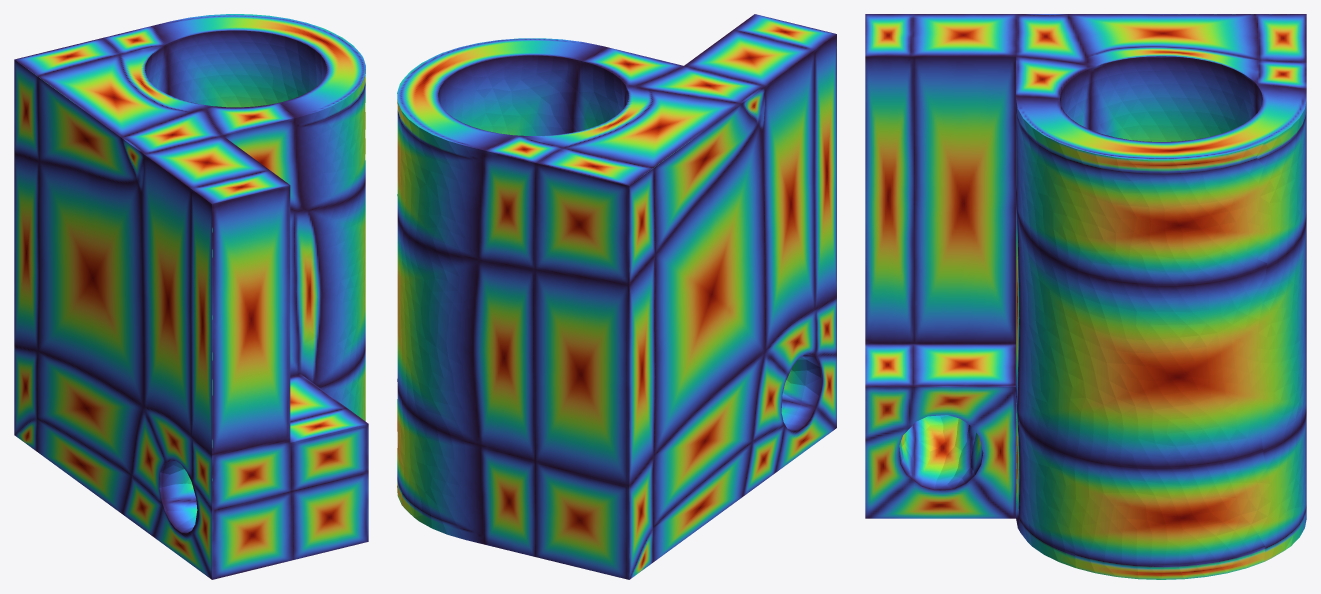
File: gen0.glb
The picture shows the model from 3 angles, left to right: view 1: azimuth 30°, elevation 25°; view 2: azimuth 150°, elevation 25°; view 3: azimuth 270°, elevation 25°; orthographic projection. The views are drawn at different scales.
Visible parts, largest first — view 1: Node; view 2: Node; view 3: Node.
Part boxes in pixels (box(x1,y1,x2,y2)): Node: box(14, 14, 368, 579); Node: box(397, 14, 836, 579); Node: box(865, 14, 1306, 579).
Bounding box in the file's own units: 0.7501 × 1 × 0.9542.
Materials: 1 (1 with a texture image).
